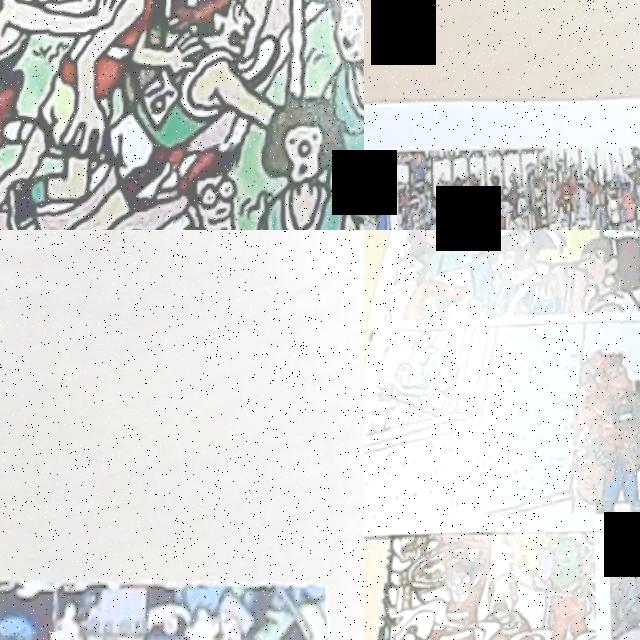waldo: (170, 144, 246, 230), (592, 349, 635, 397), (443, 550, 477, 605), (364, 198, 389, 230)
